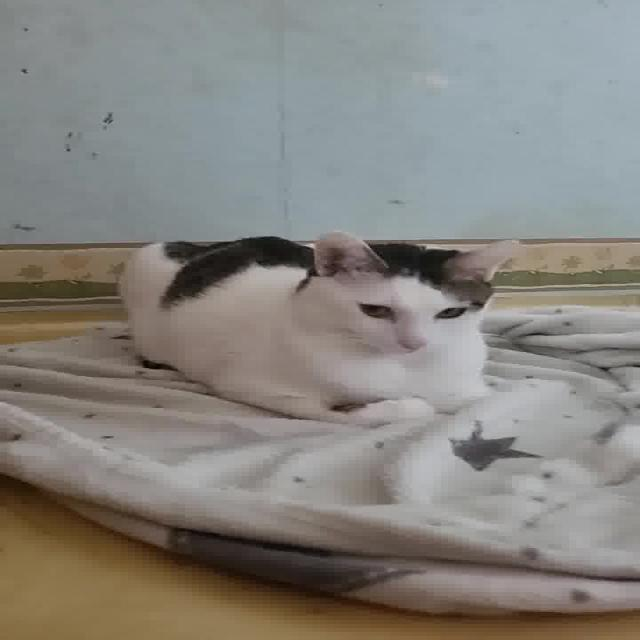cat: (111, 229, 532, 431)
